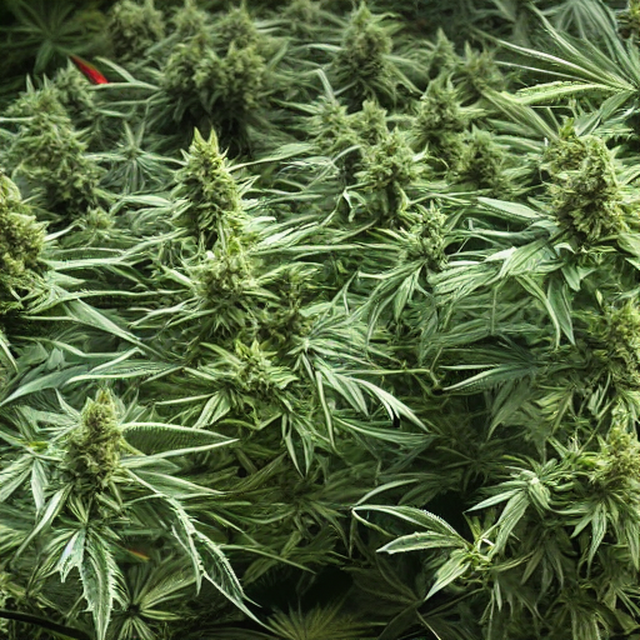Marijuana Plant: (106, 54, 593, 616)
